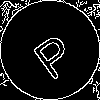P: (25, 25, 79, 82)
